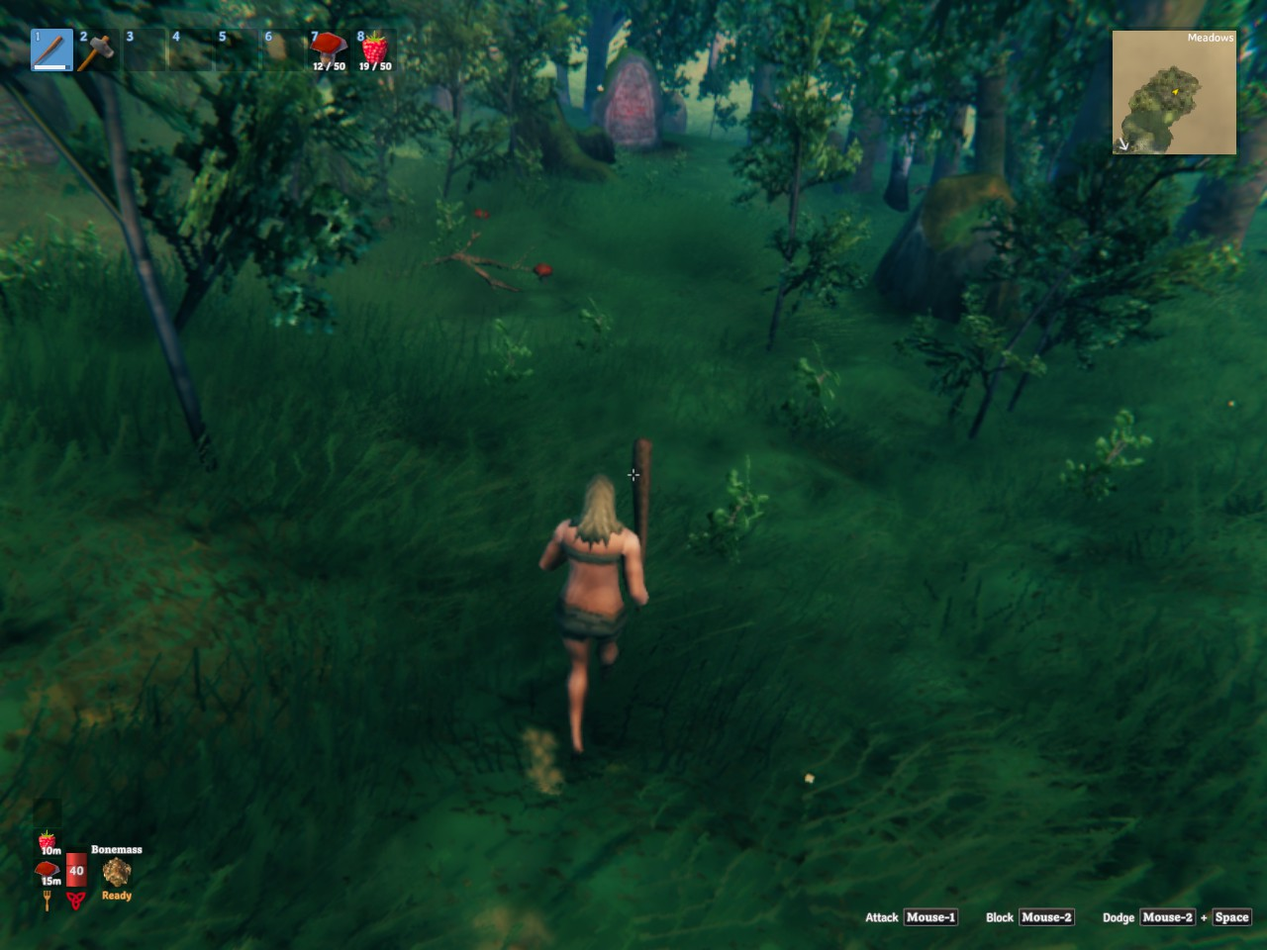Branch: (426, 232, 534, 292)
Mushroom: (533, 262, 553, 279), (473, 208, 489, 219)
Rune Stone: (595, 53, 662, 149)
